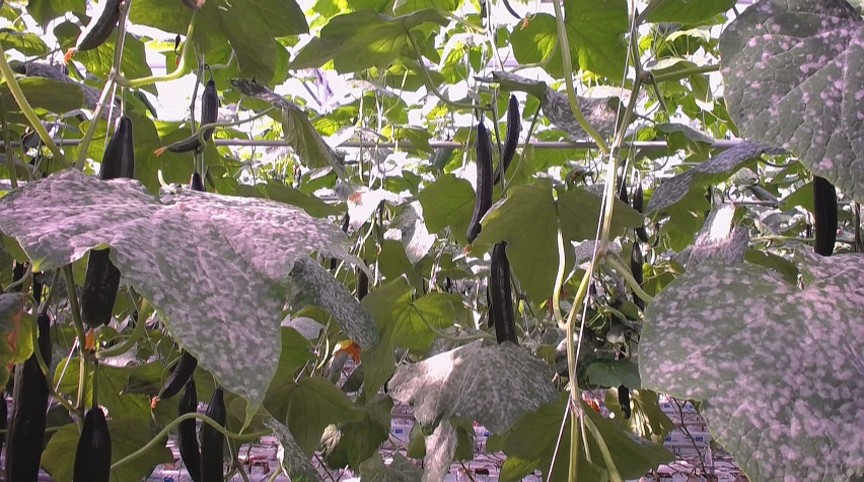cucumber: (82, 117, 136, 327), (12, 316, 51, 482), (169, 81, 218, 152), (467, 122, 493, 246), (491, 242, 518, 344), (74, 408, 110, 482), (200, 390, 225, 481), (78, 1, 121, 51), (178, 382, 200, 478), (496, 97, 520, 181), (157, 353, 197, 398)
